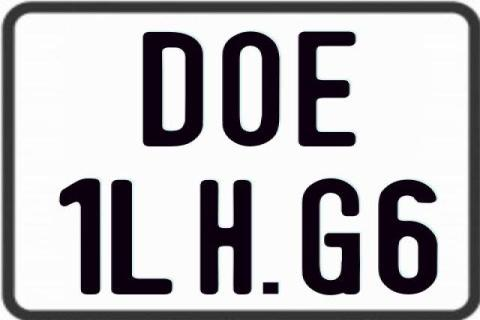0: (376, 177, 438, 292), (222, 29, 280, 149), (59, 176, 106, 296)
D: (141, 30, 206, 148)
E: (296, 30, 360, 148)
G: (299, 177, 358, 293)
H: (199, 180, 255, 297)
L: (110, 180, 172, 297)
